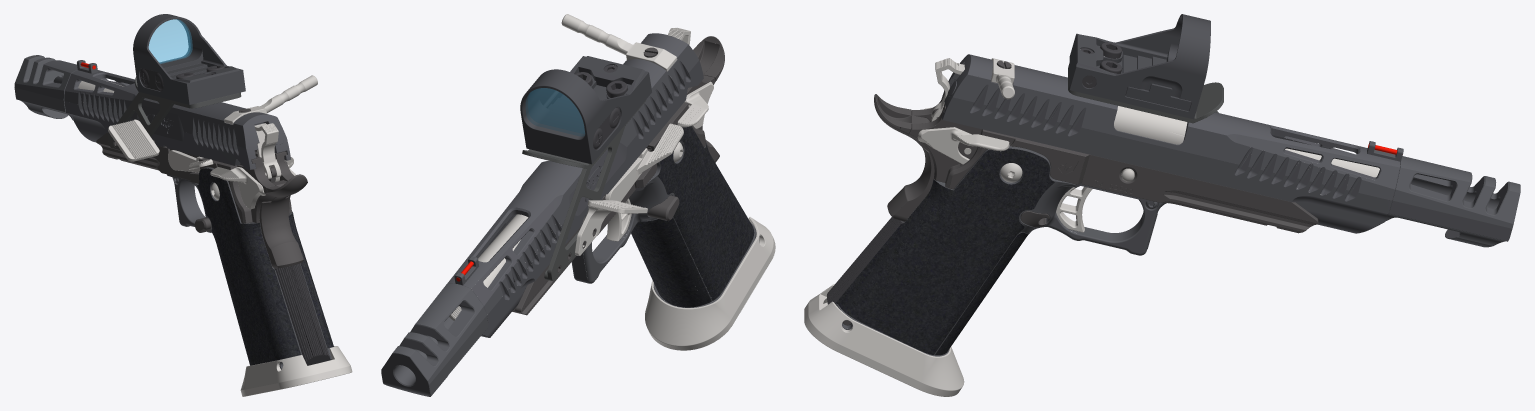
The picture shows the model from 3 angles, left to right: view 1: azimuth 30°, elevation 25°; view 2: azimuth 150°, elevation 25°; view 3: azimuth 270°, elevation 25°; orthographic projection. The views are drawn at different scales.
Parts seen in each view (by area): view 1: 握把-1, 滑套, cmore, magwell, frame optic mount-2.218, comp, glass-1, frame optic mount-2; view 2: 握把-1, 滑套, magwell, cmore, comp, frame optic mount-2.218, frame optic mount-2, glass-1; view 3: 滑套, 握把-1, frame optic mount-2.218, magwell, cmore, comp, frame optic mount-2.
Part boxes in pixels (box(x1,y1,x2,y2)): 握把-1: box(167, 167, 334, 369); 滑套: box(64, 70, 290, 169); cmore: box(133, 14, 329, 365); magwell: box(78, 75, 352, 396); frame optic mount-2.218: box(96, 108, 307, 268); comp: box(14, 55, 97, 120); glass-1: box(148, 19, 192, 63); frame optic mount-2: box(108, 76, 241, 150); 握把-1: box(571, 126, 759, 307); 滑套: box(448, 33, 703, 337); magwell: box(449, 14, 775, 350); cmore: box(520, 56, 651, 164); comp: box(381, 256, 488, 396); frame optic mount-2.218: box(512, 36, 724, 315); frame optic mount-2: box(522, 99, 646, 281); glass-1: box(526, 88, 584, 136); 滑套: box(941, 54, 1400, 233); 握把-1: box(835, 146, 1166, 356); frame optic mount-2.218: box(843, 60, 1318, 325); magwell: box(804, 58, 1379, 396); cmore: box(827, 14, 1210, 304); comp: box(1367, 141, 1520, 247); frame optic mount-2: box(1068, 63, 1223, 123).
Size of the model in its own units: 0.0751 by 0.1685 by 0.2954.
10 materials, 1 textured.
